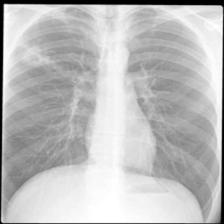tuberculosis: (4, 4, 222, 222)
